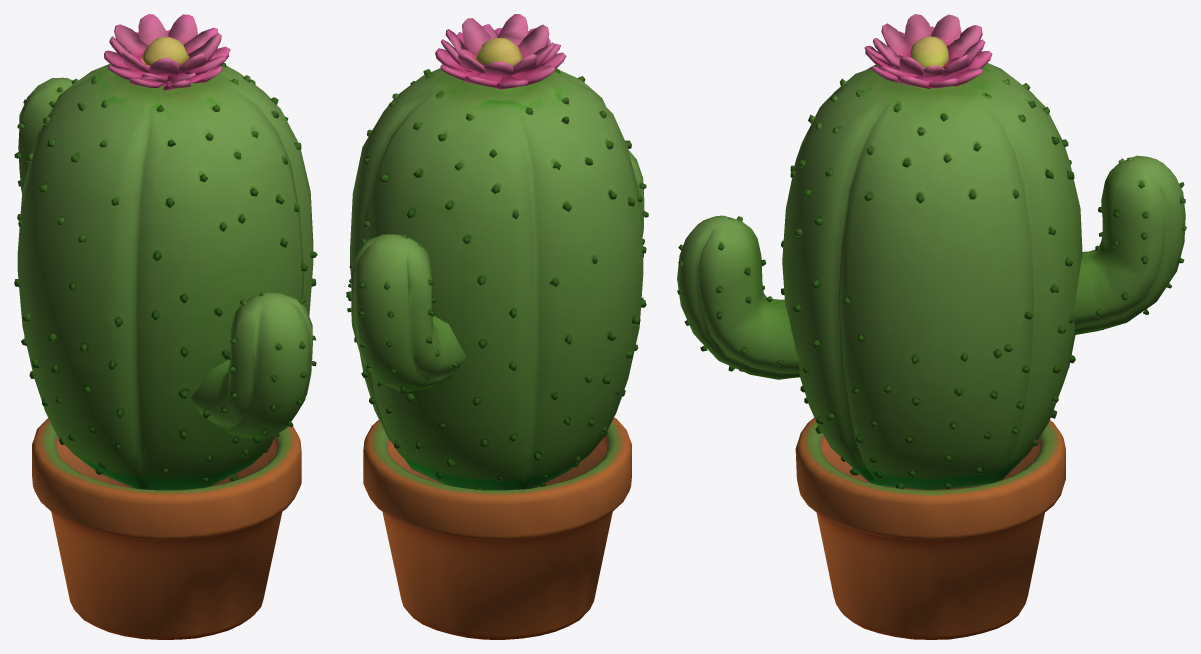
Rendered from potted_cactus.glb.
3 views of the same model, side by side, from view 1: azimuth 30°, elevation 25°; view 2: azimuth 150°, elevation 25°; view 3: azimuth 270°, elevation 25° (orthographic).
Parts seen in each view (by area): view 1: tripo_node_6bb79106-f69d-4d95-9e4d-f263097e6af9; view 2: tripo_node_6bb79106-f69d-4d95-9e4d-f263097e6af9; view 3: tripo_node_6bb79106-f69d-4d95-9e4d-f263097e6af9.
Part boxes in pixels (left/top/right/bottom): tripo_node_6bb79106-f69d-4d95-9e4d-f263097e6af9: left=14, top=14, right=317, bottom=639; tripo_node_6bb79106-f69d-4d95-9e4d-f263097e6af9: left=346, top=14, right=648, bottom=639; tripo_node_6bb79106-f69d-4d95-9e4d-f263097e6af9: left=677, top=14, right=1186, bottom=639.
Bounding box in the file's own units: 0.4824 × 0.998 × 0.8144.
Materials: 1 (1 with a texture image).
